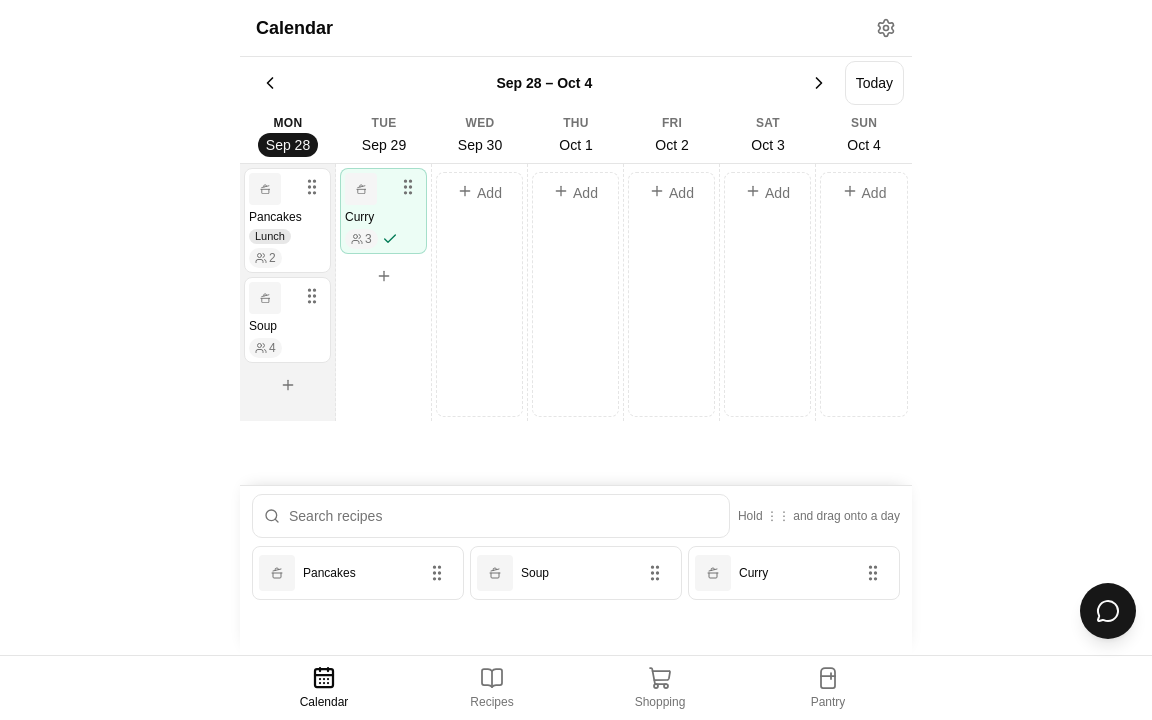
Scenario: calendar page › asks to uncook before removing or rescaling a cooked meal
What coordinates should you click on to do the following:
click the button with aria-label "Curry, 3 servings, cooked"
I would click on:
 (384, 211)
Its box is top-left (341, 169), bottom-right (426, 253).
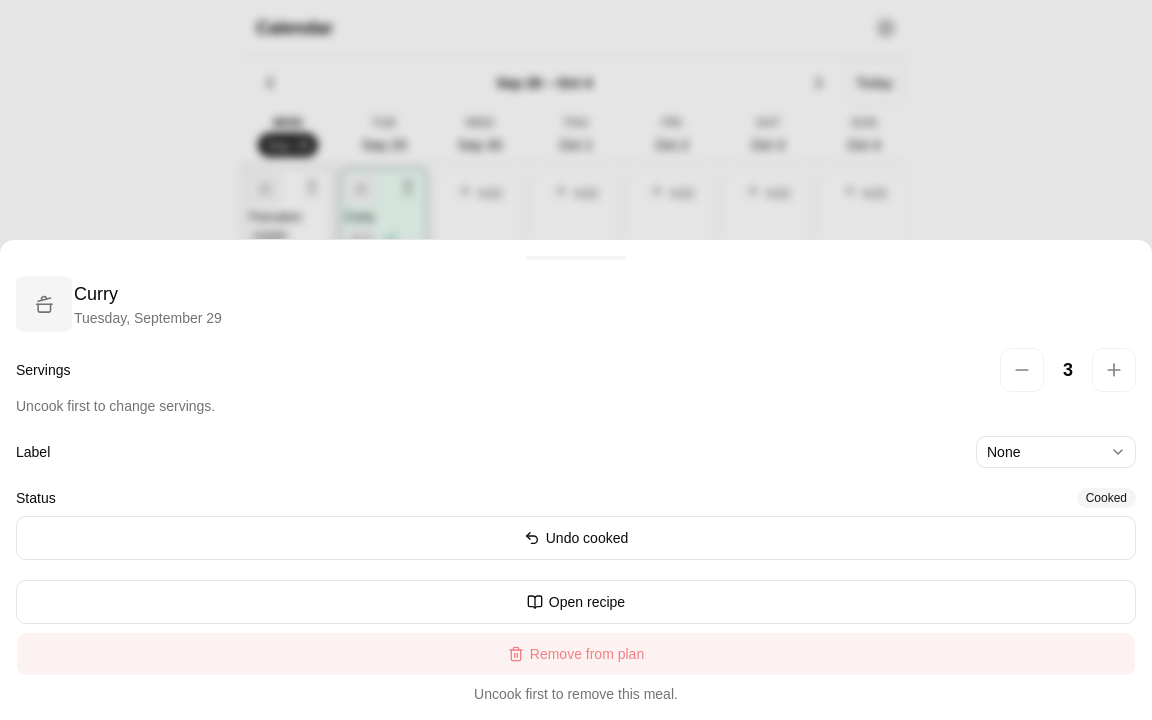
Result: the button "Remove from plan" is disabled at top-left (16, 632), bottom-right (1136, 676)
Result: the text "Uncook first to remove this meal." is shown at top-left (474, 686), bottom-right (678, 702)
Result: the button named "More servings" is disabled at top-left (1092, 348), bottom-right (1136, 392)
